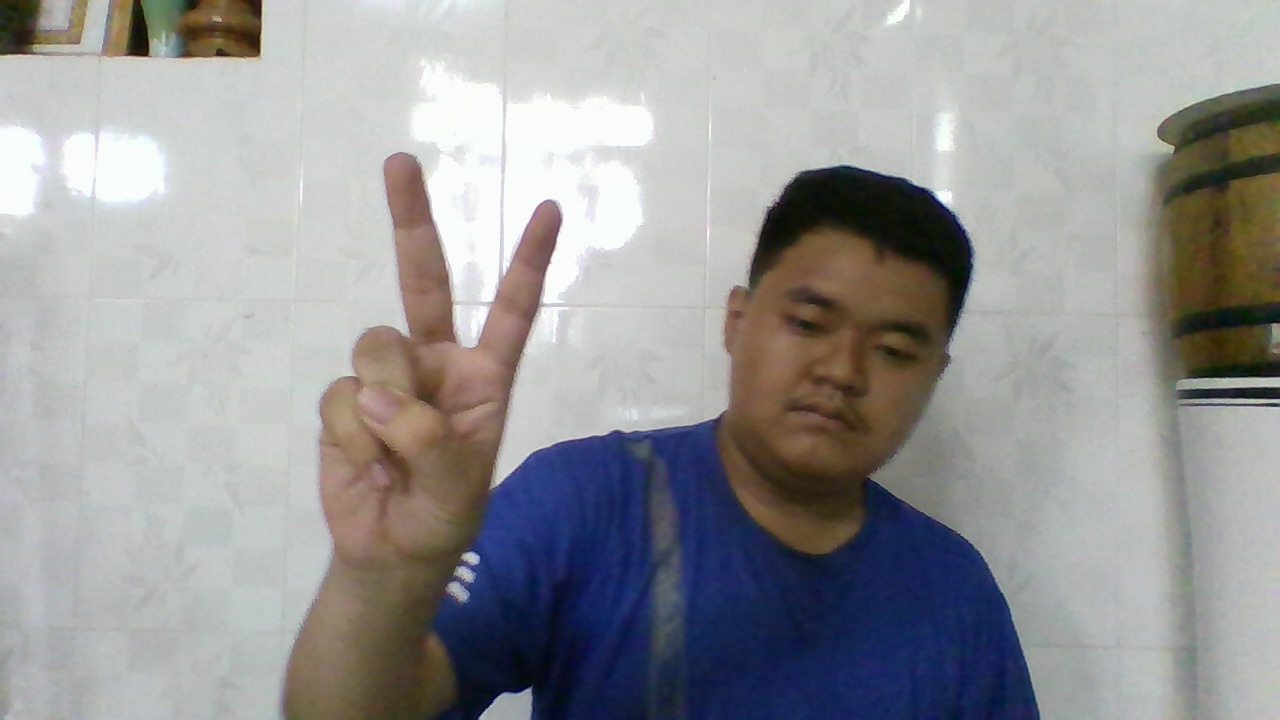V: (327, 151, 561, 583)
